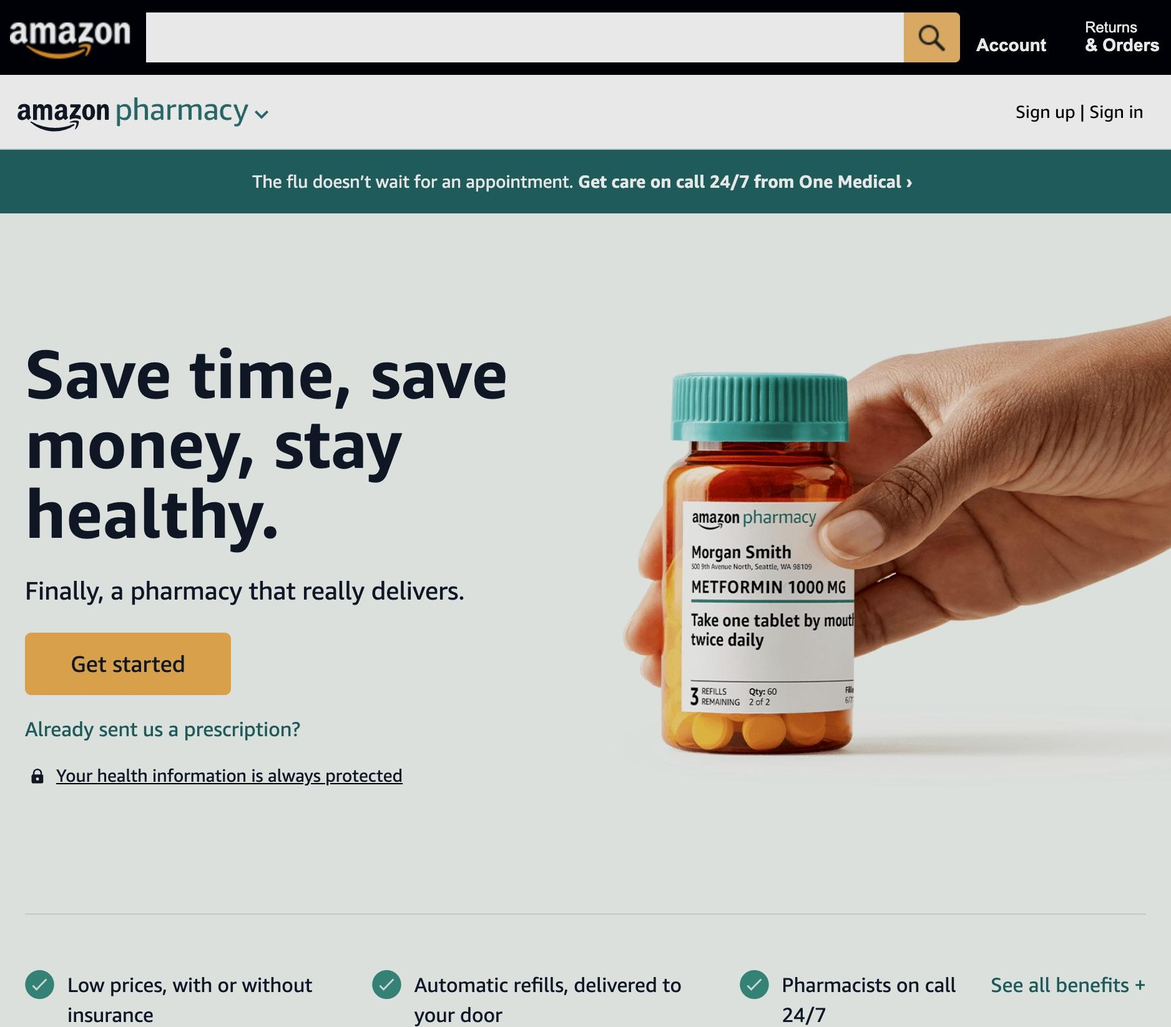webelement: (0, 0, 1171, 74), (0, 148, 1170, 212), (145, 12, 903, 60), (0, 90, 572, 131), (24, 713, 584, 742), (24, 761, 584, 787), (24, 631, 230, 694), (1, 5, 142, 67), (964, 5, 1072, 67), (1072, 5, 1170, 67), (990, 968, 1145, 998), (903, 11, 959, 61), (1014, 100, 1142, 121), (975, 35, 1061, 54), (1084, 35, 1159, 54), (1084, 17, 1159, 35), (24, 968, 54, 998), (371, 968, 401, 998), (738, 968, 768, 998), (24, 762, 49, 787)
